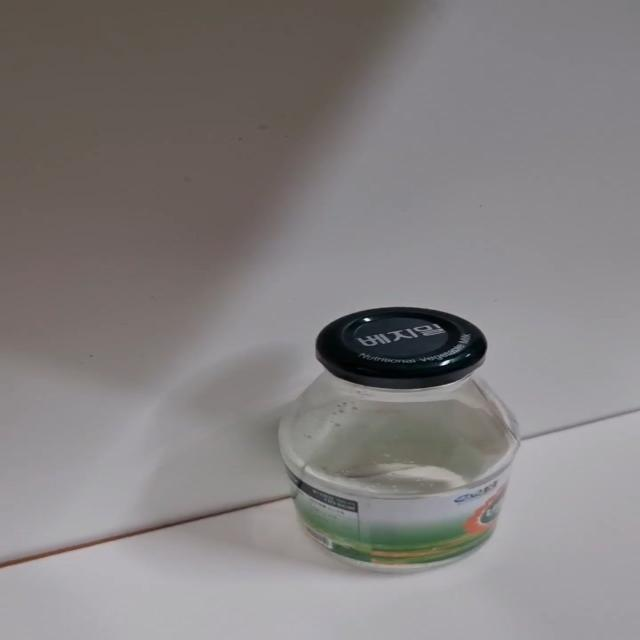Glass: (276, 307, 523, 574)
